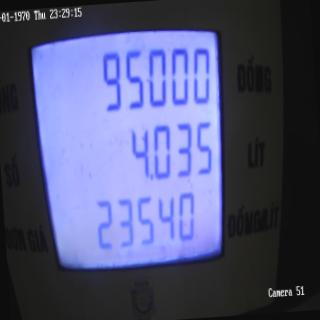screen: (21, 0, 242, 305)
